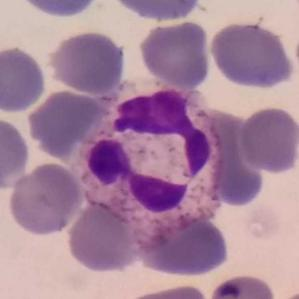Neutrophil: (69, 81, 236, 241)
RBC: (197, 109, 269, 209), (206, 14, 298, 88), (136, 211, 234, 279), (5, 160, 85, 238), (64, 198, 140, 275), (24, 87, 105, 159), (45, 28, 129, 97), (137, 18, 213, 90), (237, 104, 299, 176), (0, 44, 49, 115), (0, 114, 32, 191), (105, 0, 207, 23), (208, 272, 280, 299), (12, 0, 108, 20), (118, 281, 213, 299)
